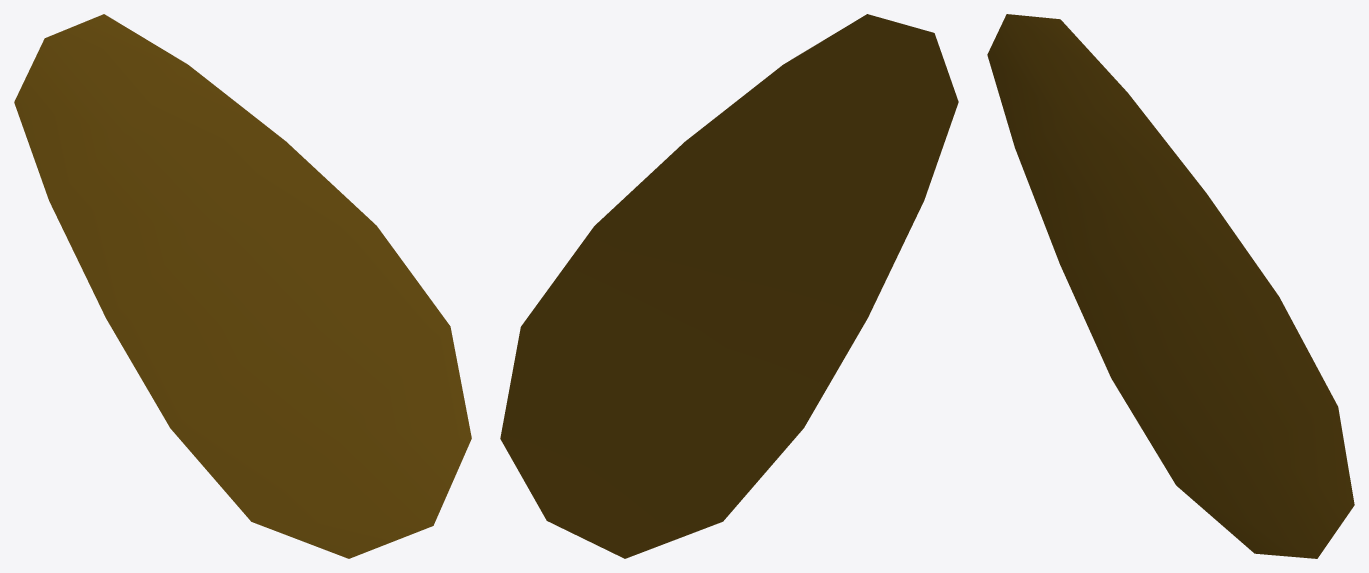
The model's file is canary_feather_flight_secondary_012.obj.
3 views of the same model, side by side, from view 1: azimuth 30°, elevation 25°; view 2: azimuth 150°, elevation 25°; view 3: azimuth 330°, elevation 25° (orthographic). The views are drawn at different scales.
Visible parts, largest first — view 1: feather_flight_secondary_012; view 2: feather_flight_secondary_012; view 3: feather_flight_secondary_012.
Part boxes in pixels (x1,y1,x2,y2): feather_flight_secondary_012: (14, 14, 471, 558); feather_flight_secondary_012: (500, 14, 958, 558); feather_flight_secondary_012: (987, 14, 1354, 558).
Size of the model in its own units: 0.0115 by 0.0145 by 0.000228.
